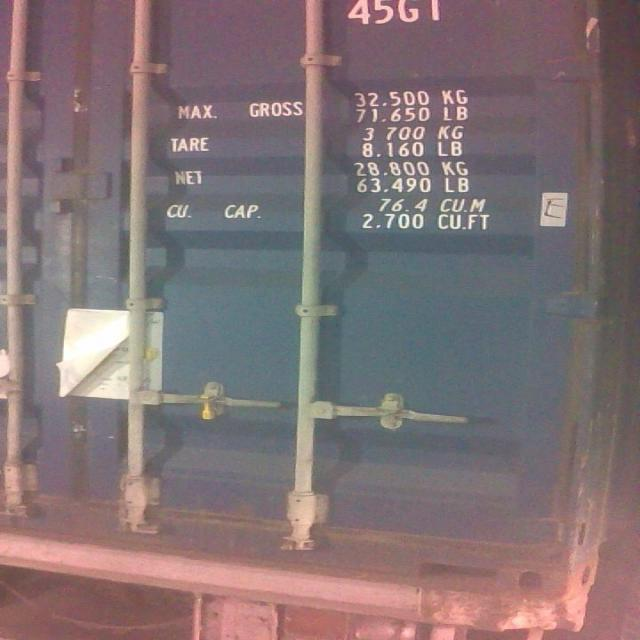seal: (192, 388, 227, 420)
